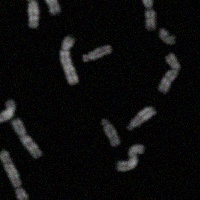chromosome: (0, 149, 28, 200), (12, 118, 44, 159), (58, 35, 79, 87), (157, 51, 181, 94), (114, 143, 145, 172), (127, 105, 157, 132), (98, 116, 120, 147), (20, 0, 39, 29), (81, 44, 113, 61), (141, 0, 157, 31), (0, 99, 16, 123), (158, 27, 175, 44), (43, 0, 61, 16)
